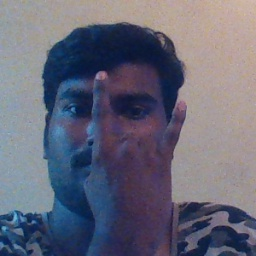V: (75, 66, 193, 244)
